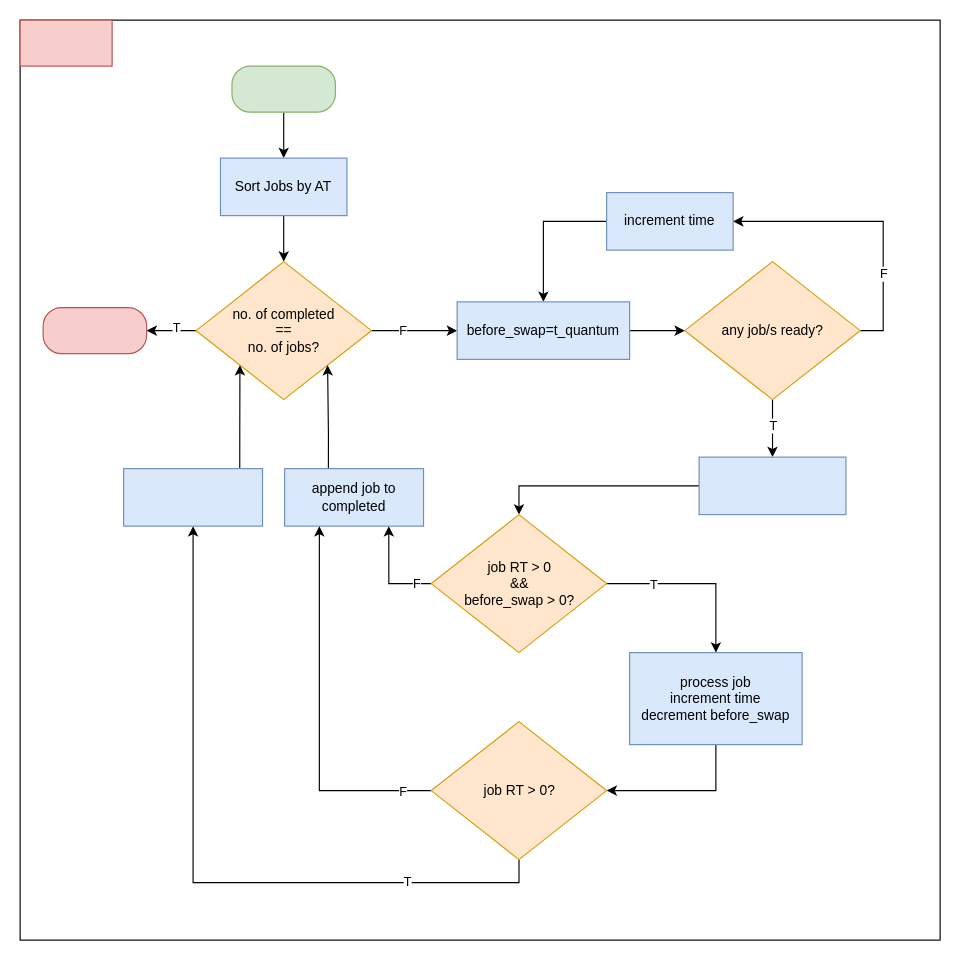
This 960x969 diagram has some shape labels left out. Here are the shapes that lost their labels. From the top down, the centre of each, then its label:
(x=65, y=42): RR
(x=283, y=88): START
(x=94, y=330): END
(x=192, y=496): append job to ready
(x=772, y=485): get first job in ready
